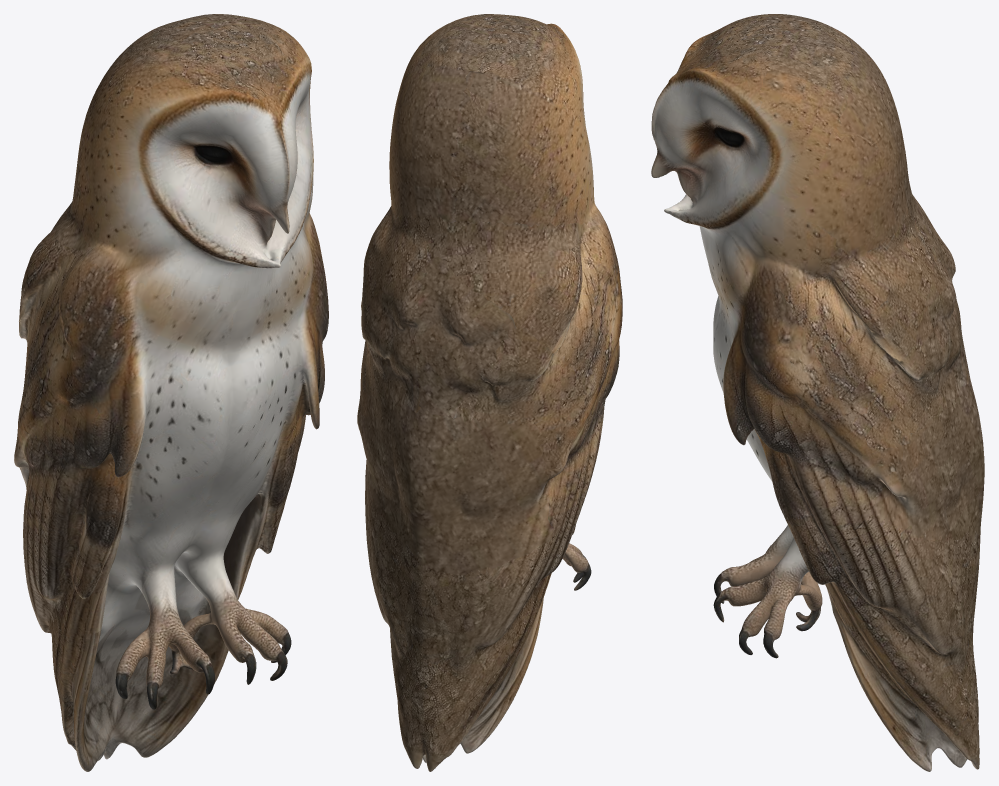
Rendered from owl.glb.
3 views of the same model, side by side, from view 1: azimuth 30°, elevation 25°; view 2: azimuth 150°, elevation 25°; view 3: azimuth 270°, elevation 25° (orthographic). The views are drawn at different scales.
Bounding box in the file's own units: 0.6692 × 1.89 × 0.7687.
Materials: 1 (1 with a texture image).
